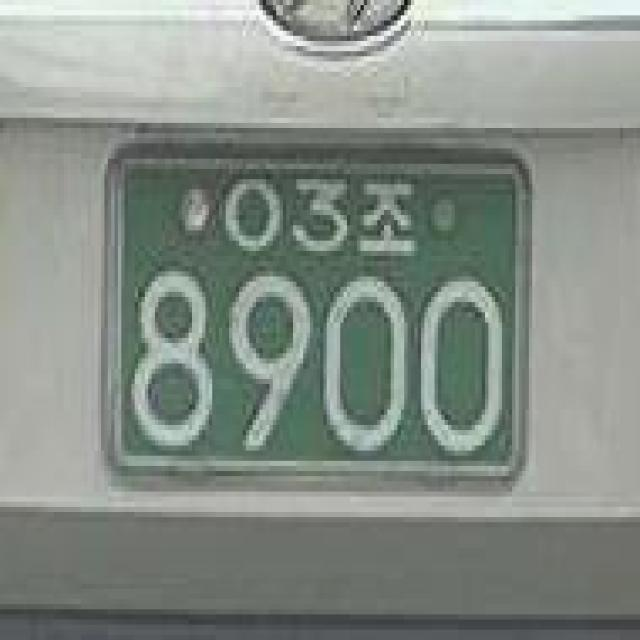illegal_plate: (87, 117, 547, 517)
